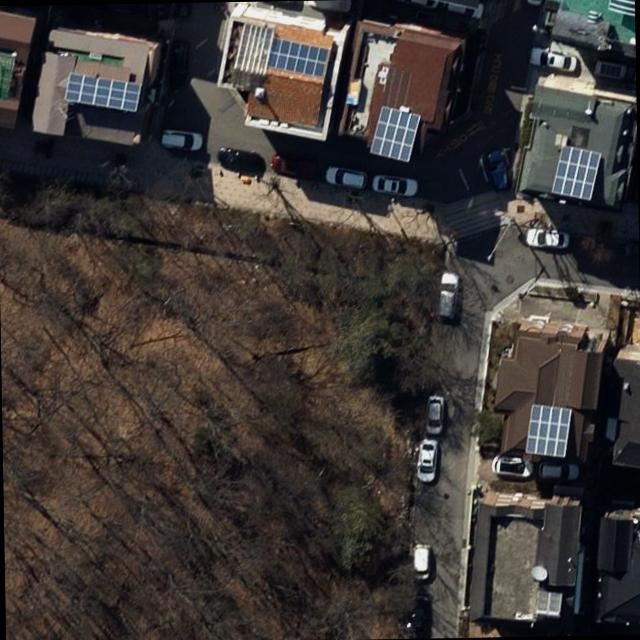solar: (64, 70, 144, 114), (548, 142, 604, 204), (367, 104, 422, 165), (524, 402, 574, 462), (266, 36, 332, 79)
